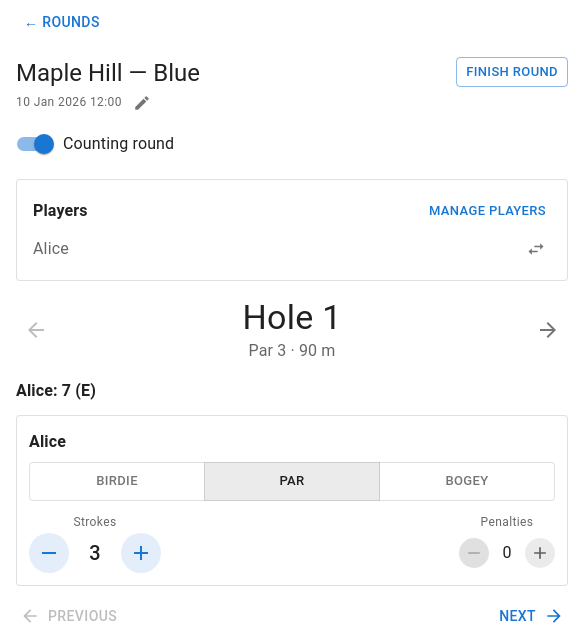
Test: RoundPage › increments strokes and saves the change
The width and height of the screenshot is (585, 640).
Expected: the heading "Hole 1" is shown, [242,297,342,339]
Click the button named "increase strokes" at (141, 553), box [121,533,161,573]
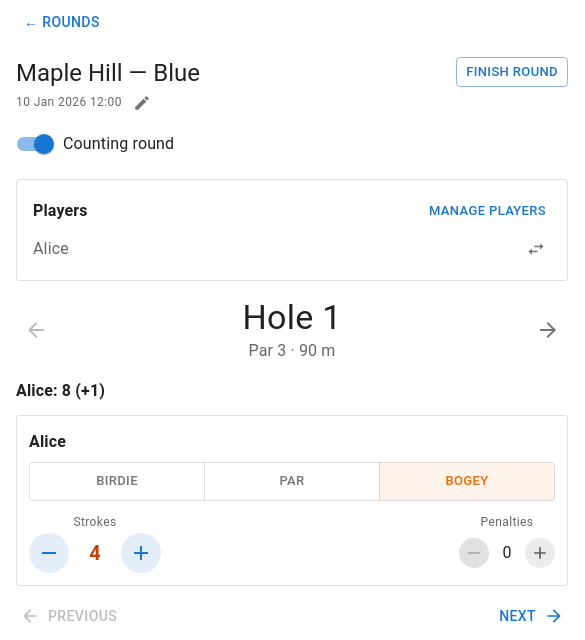
Expected: the heading "4" is shown, [89,541,101,565]
